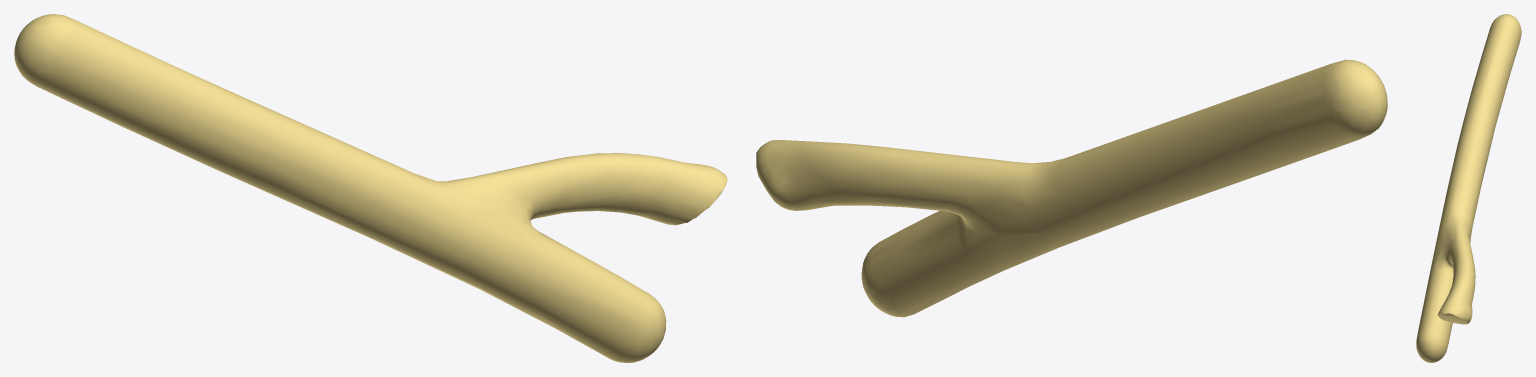
File: fma45241_fj4275.glb
The picture shows the model from 3 angles, left to right: view 1: azimuth 30°, elevation 25°; view 2: azimuth 150°, elevation 25°; view 3: azimuth 270°, elevation 25°; orthographic projection. The views are drawn at different scales.
Parts seen in each view (by area): view 1: FMA45241_FJ4275; view 2: FMA45241_FJ4275; view 3: FMA45241_FJ4275.
Part boxes in pixels (left/top/right/bottom): FMA45241_FJ4275: left=14, top=14, right=727, bottom=362; FMA45241_FJ4275: left=756, top=59, right=1387, bottom=317; FMA45241_FJ4275: left=1416, top=14, right=1521, bottom=362.
Size of the model in its own units: 0.0366 by 0.0223 by 0.00983.
